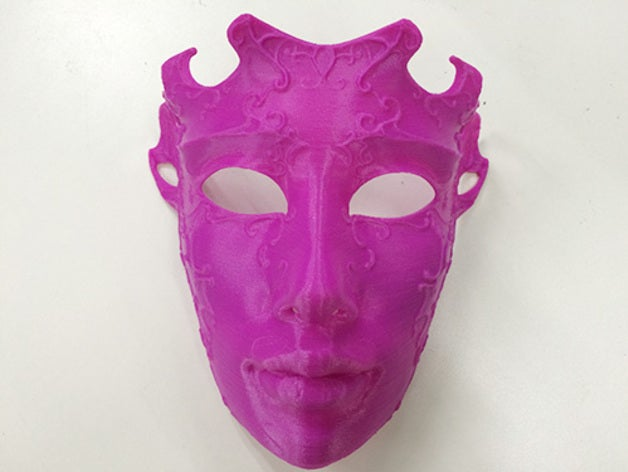Good: (127, 4, 503, 472)
